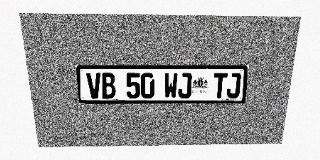0: (140, 73, 154, 98)
5: (126, 73, 140, 99)
B: (101, 73, 116, 99)
J: (226, 73, 241, 98), (178, 73, 192, 98)
T: (212, 73, 227, 98)
V: (86, 73, 102, 99)
W: (164, 73, 178, 98)
